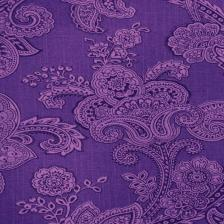purple: (3, 0, 224, 224)
